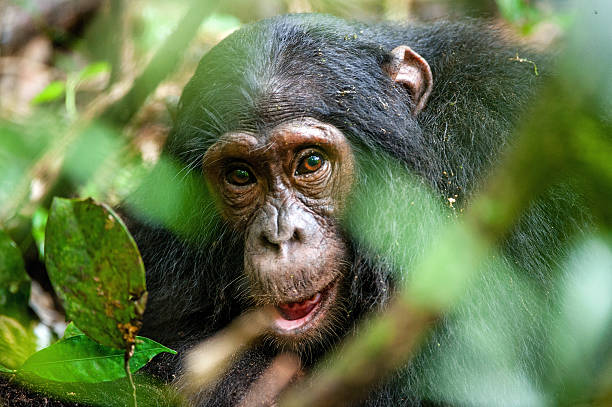chimpanzee: (144, 20, 456, 365)
